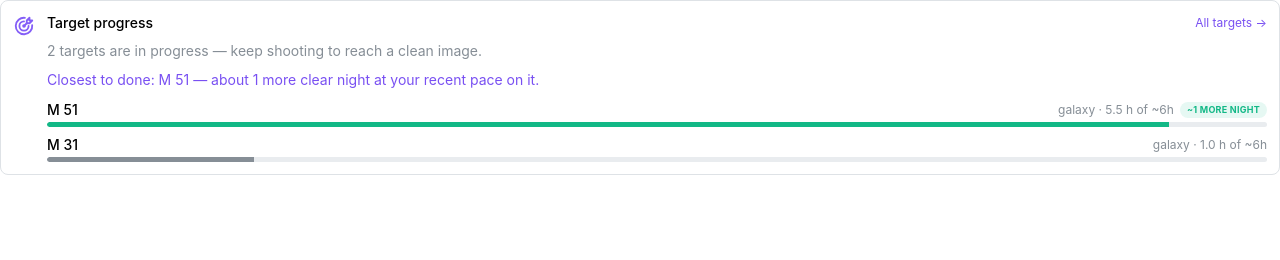
LibraryProgressCard › names the target closest to done and badges its nights to go
Expected: the text "Target progress" is shown, [47,13,153,33]
Expected: the text "Closest to done: M 51 — about 1 more clear night at your recent pace on it." is shown, [47,71,539,88]
Click the button "~1 more night" at (1223,110), box [1180,102,1267,118]
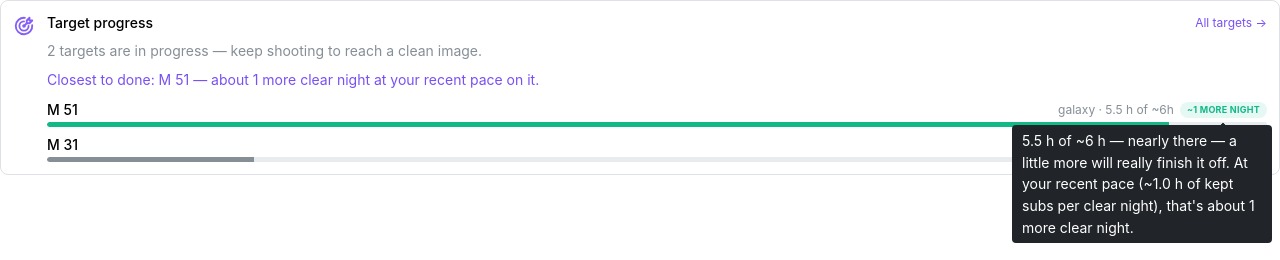
Now the tooltip "At your recent pace (~1.0 h of kept subs per clear night), that's about 1 more clear night." is shown, box [1022,132,1255,236]
